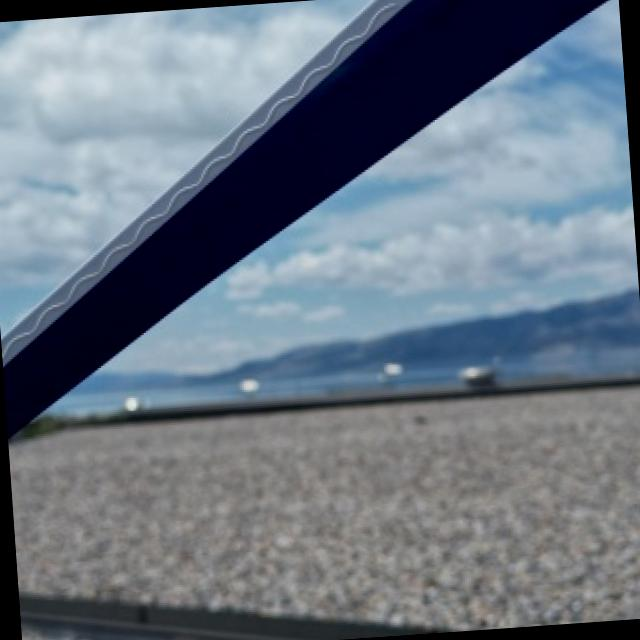healthy: (8, 0, 640, 628)
